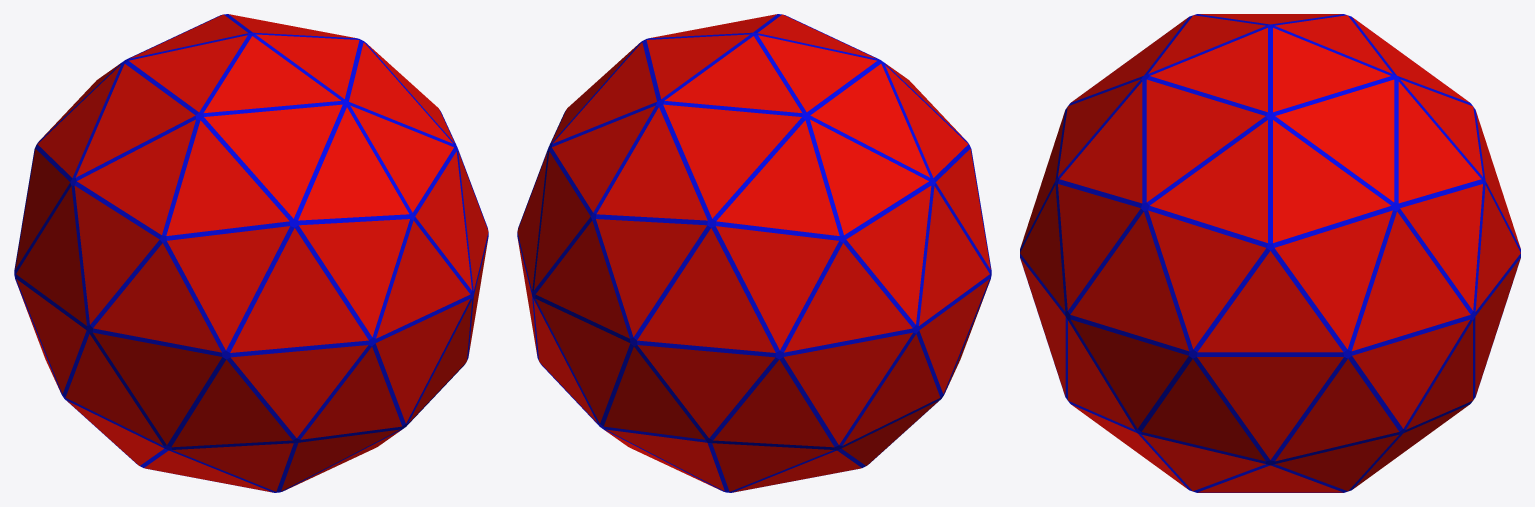
3 renders of one model, left to right at view 1: azimuth 30°, elevation 25°; view 2: azimuth 150°, elevation 25°; view 3: azimuth 270°, elevation 25°, orthographic. The views are drawn at different scales.
Visible parts, largest first — view 1: Sphere; view 2: Sphere; view 3: Sphere.
Boxes of the visible parts, x1,y1,x2,y2 form: Sphere: (14, 14, 488, 492); Sphere: (517, 14, 991, 492); Sphere: (1020, 14, 1520, 492).
Bounding box in the file's own units: 190 × 199 × 199.
